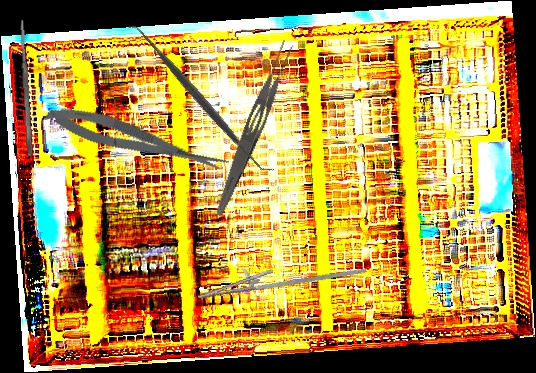Dressing Forceps: (211, 38, 298, 220)
Micro Scissor: (42, 96, 232, 186)
Needle Holder: (193, 235, 368, 320)
Spatula Surgical: (125, 15, 276, 183), (18, 18, 34, 157)
